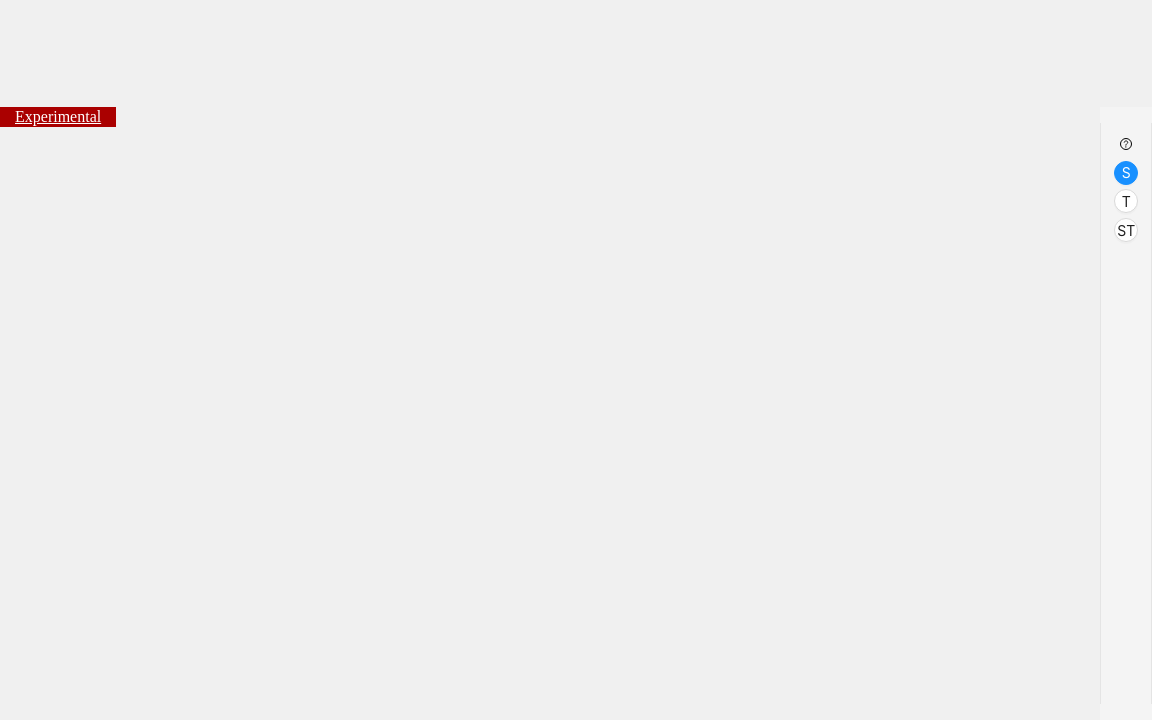
Test: <TraceGraph> › shows help
Click the icon with test id "help-icon" at (1126, 144), box [1118,136,1134,152]
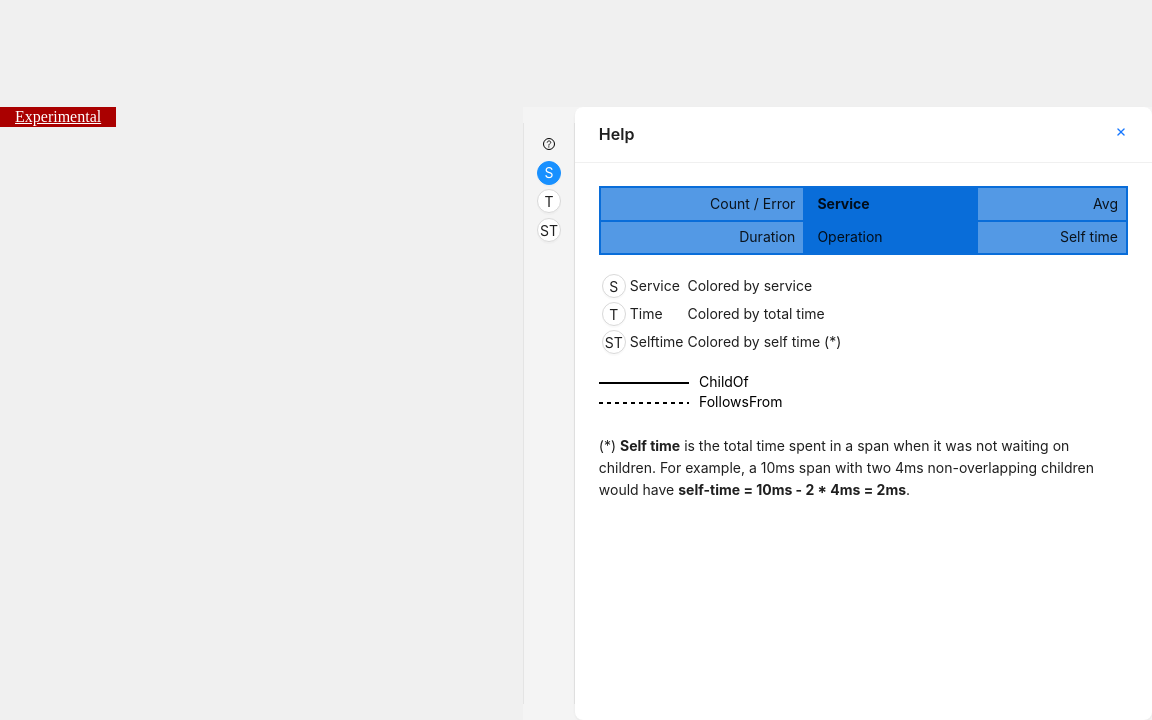
expect the text "Count / Error" is shown: met, box [601,188,803,220]
expect the text "Duration" is shown: met, box [601,222,803,253]
expect the text "Operation" is shown: met, box [805,222,976,253]
